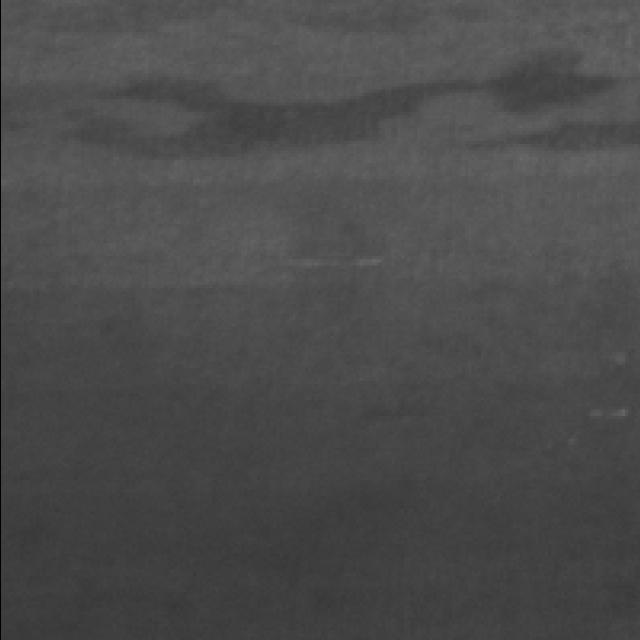inclusion: (98, 60, 638, 158)
